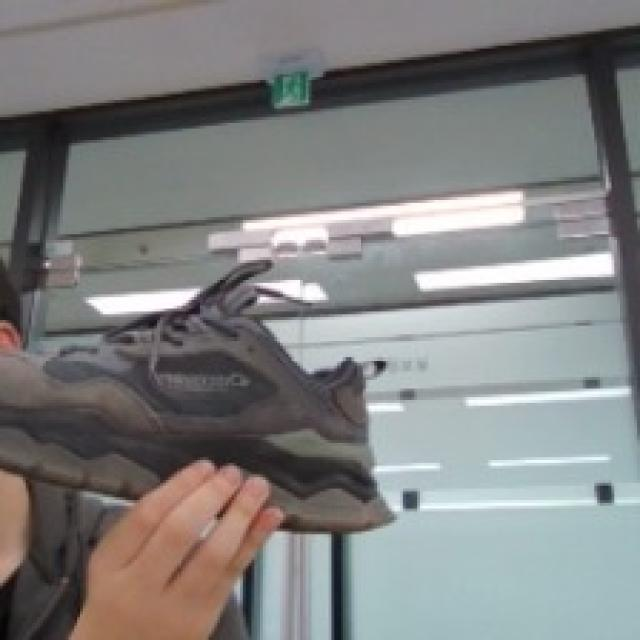shoes: (10, 237, 470, 522)
